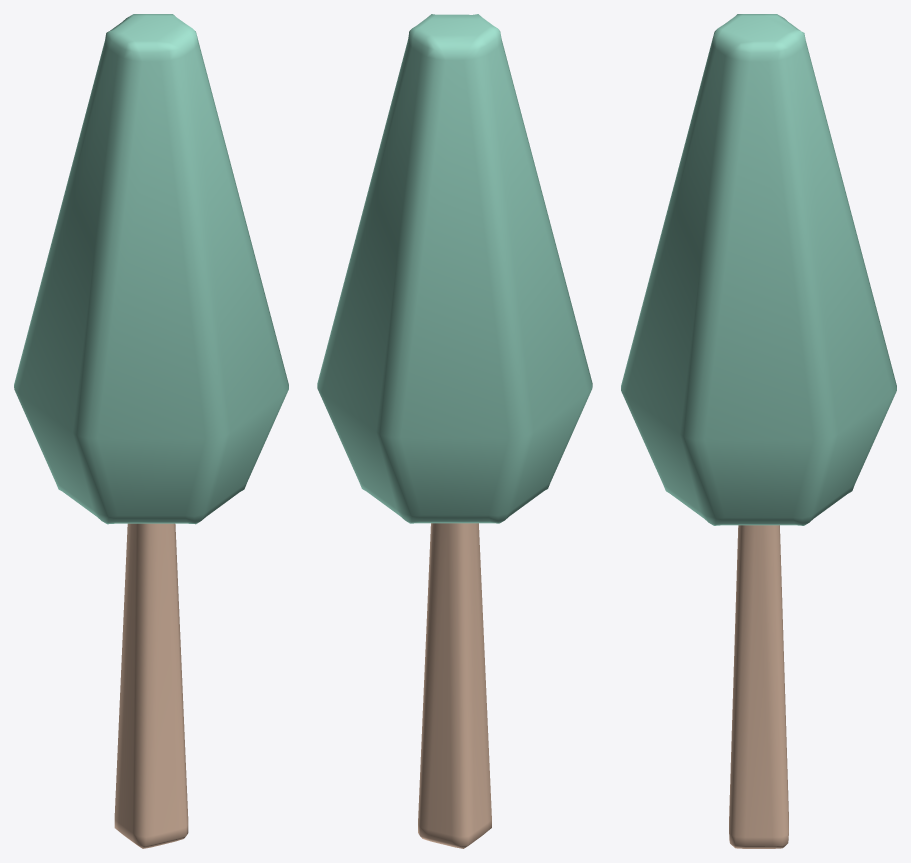
Rendered from tree_textures.gltf.
3 renders of one model, left to right at view 1: azimuth 30°, elevation 25°; view 2: azimuth 150°, elevation 25°; view 3: azimuth 270°, elevation 25°, orthographic.
Visible parts, largest first — view 1: tree_large; view 2: tree_large; view 3: tree_large.
Boxes of the visible parts, x1=… form: tree_large: x1=14, y1=14, x2=288, y2=848; tree_large: x1=317, y1=14, x2=592, y2=848; tree_large: x1=621, y1=14, x2=896, y2=848.
Size of the model in its own units: 0.2105 by 0.767 by 0.2365.
